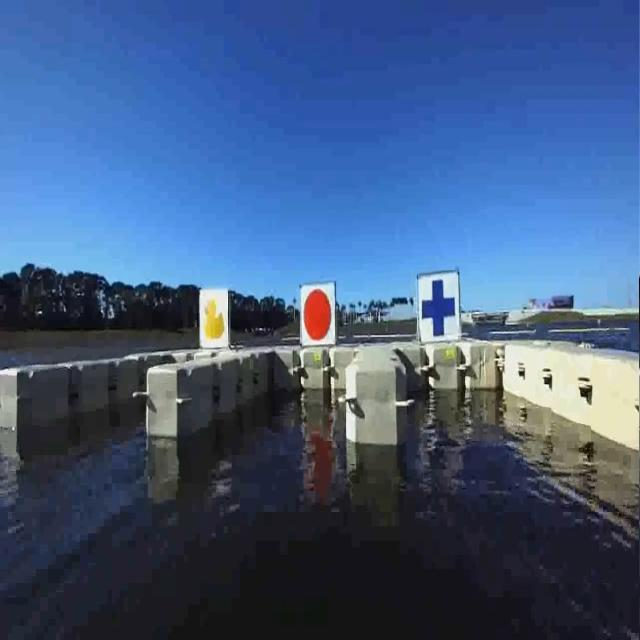blue-cross: (418, 270, 462, 341)
red-dot: (300, 283, 338, 344)
yellow-duck: (200, 286, 230, 356)
